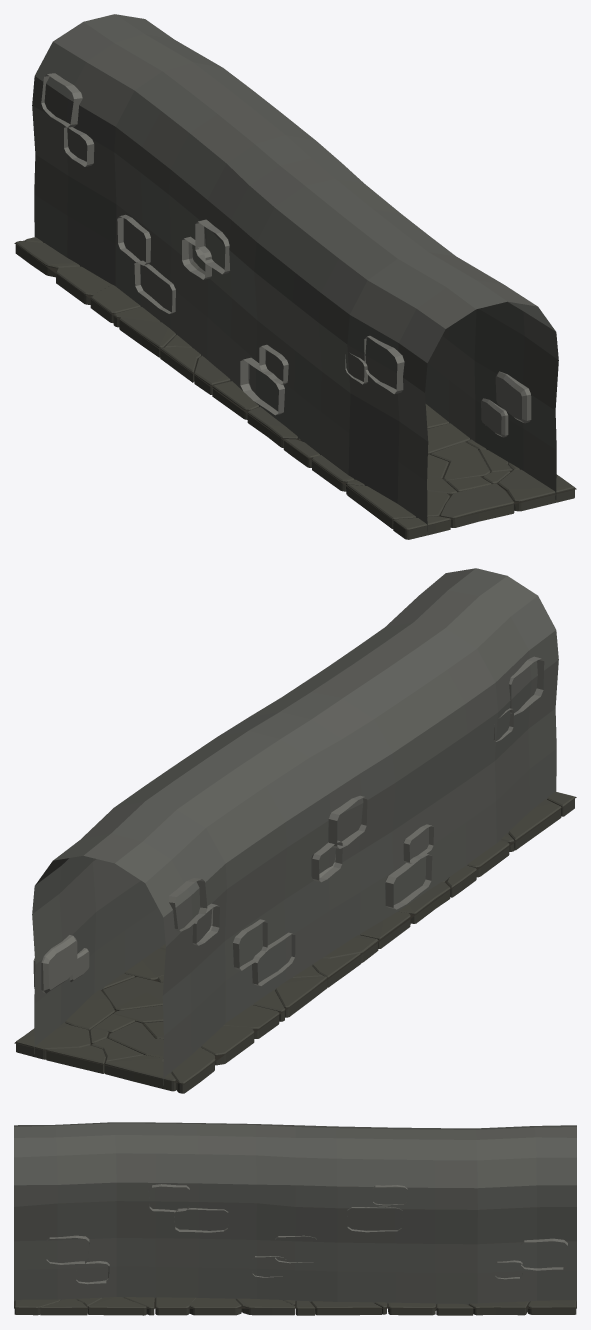
The model's file is Hallway_Double.glb.
3 renders of one model, top to bottom at view 1: azimuth 30°, elevation 25°; view 2: azimuth 150°, elevation 25°; view 3: azimuth 270°, elevation 25°, orthographic. The views are drawn at different scales.
Visible parts, largest first — view 1: Hallway_Double; view 2: Hallway_Double; view 3: Hallway_Double.
Part boxes in pixels (x1,y1,x2,y2): Hallway_Double: [14, 14, 576, 539]; Hallway_Double: [14, 568, 576, 1093]; Hallway_Double: [14, 1122, 576, 1315].
Bounding box in the file's own units: 2.01 × 2.42 × 8.
2 materials, 2 textured.
